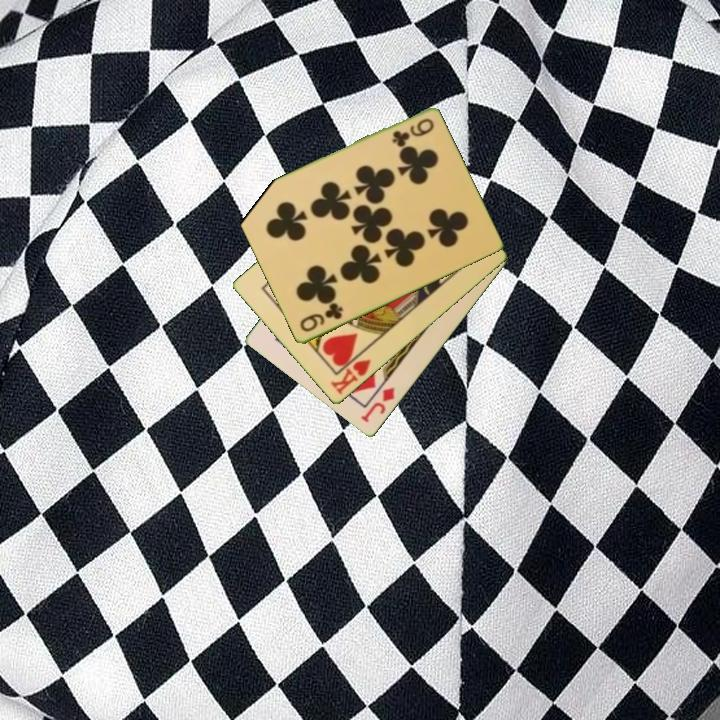9c: (296, 300, 346, 335), (388, 115, 437, 149)
Jd: (357, 384, 398, 426)
Kh: (327, 347, 374, 398)
